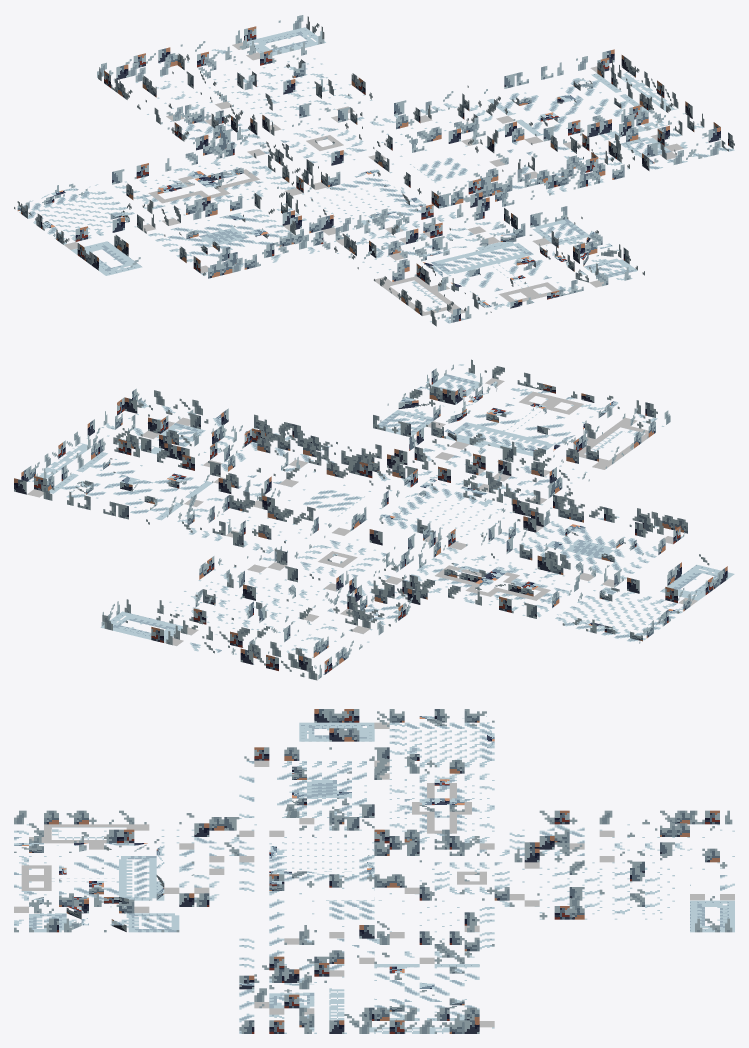
Rendered from map3.gltf.
3 views of the same model, one above another, from view 1: azimuth 30°, elevation 25°; view 2: azimuth 150°, elevation 25°; view 3: azimuth 270°, elevation 25° (orthographic). The views are drawn at different scales.
Size of the model in its own units: 196 by 4 by 192.
